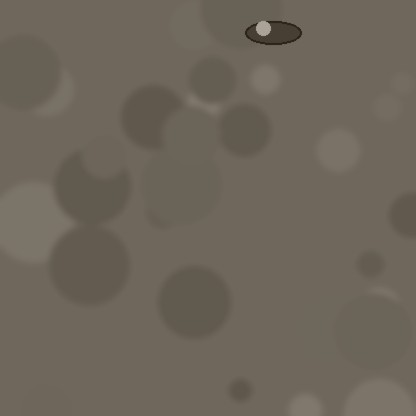gota: (245, 22, 301, 46)
